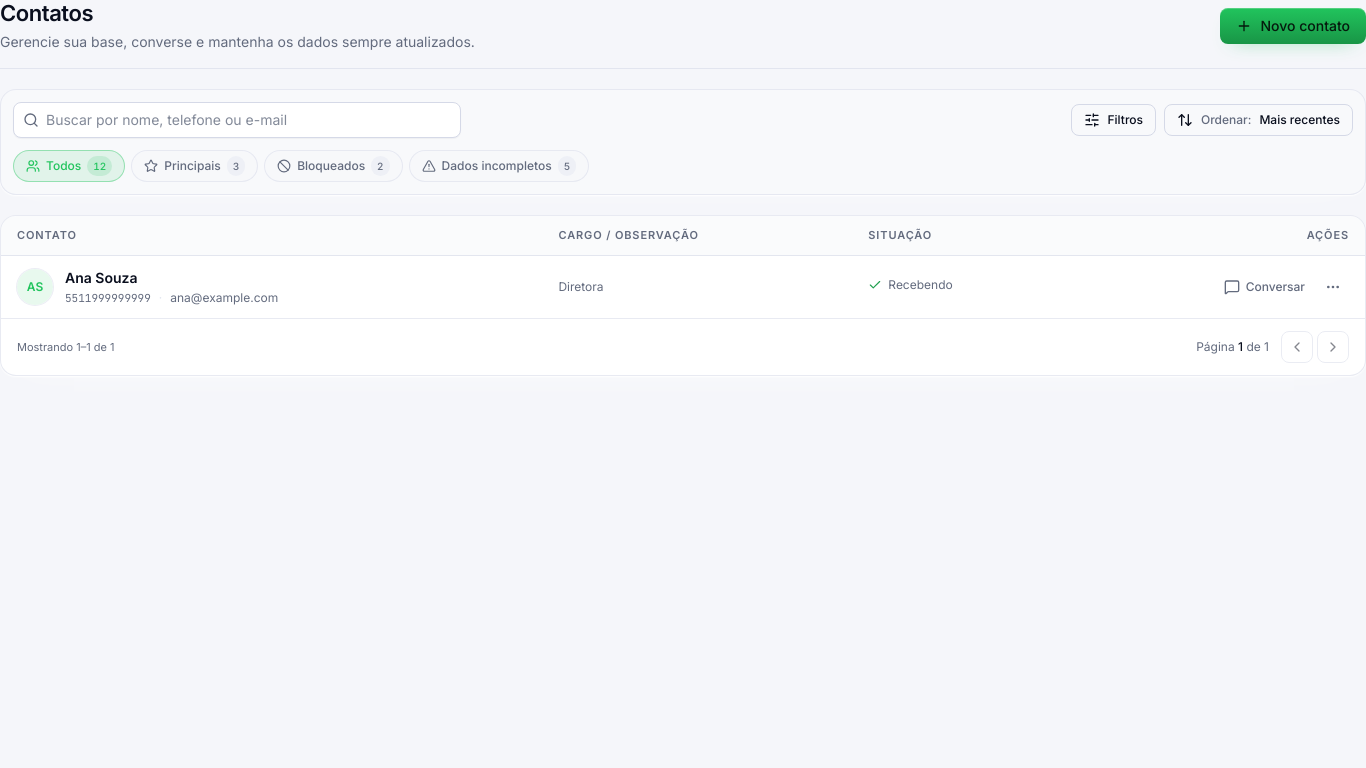
Test: ContactListPage details panel › opens the existing edit form from the details panel
Click the text "Ana Souza" at x=101, y=278, box [65,268,138,288]
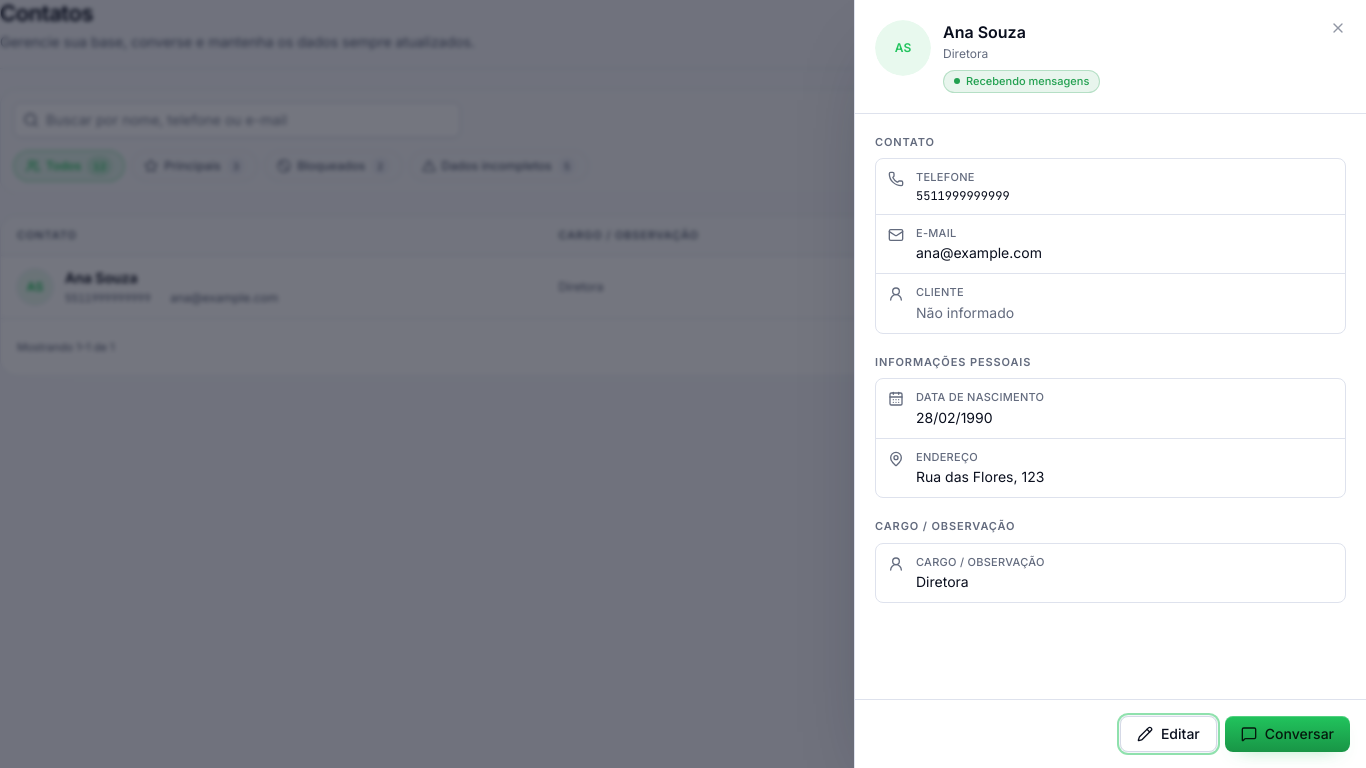
Click the button "Editar" at x=1168, y=734, box [1120,716,1217,752]
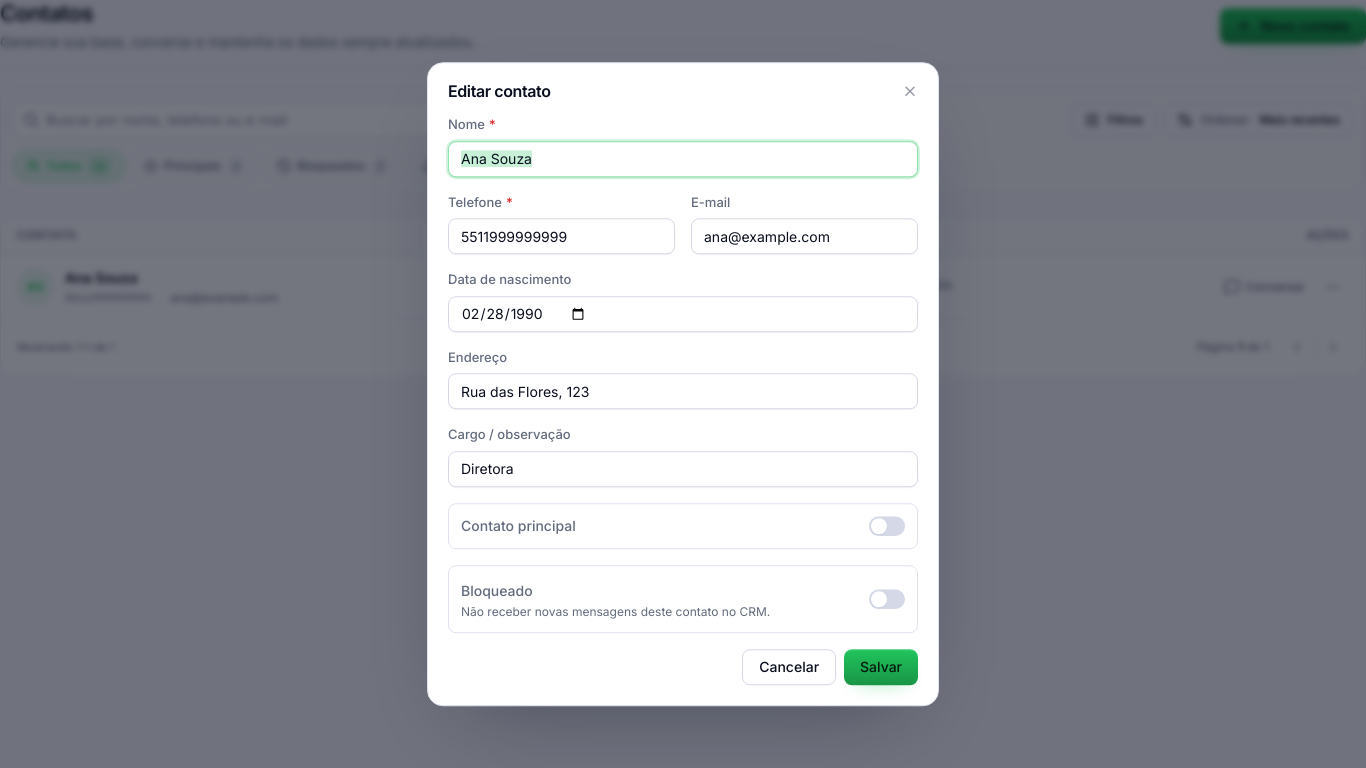
Now the heading "Informações pessoais" is gone
Now the heading "Editar contato" is shown, box [448,81,551,101]
